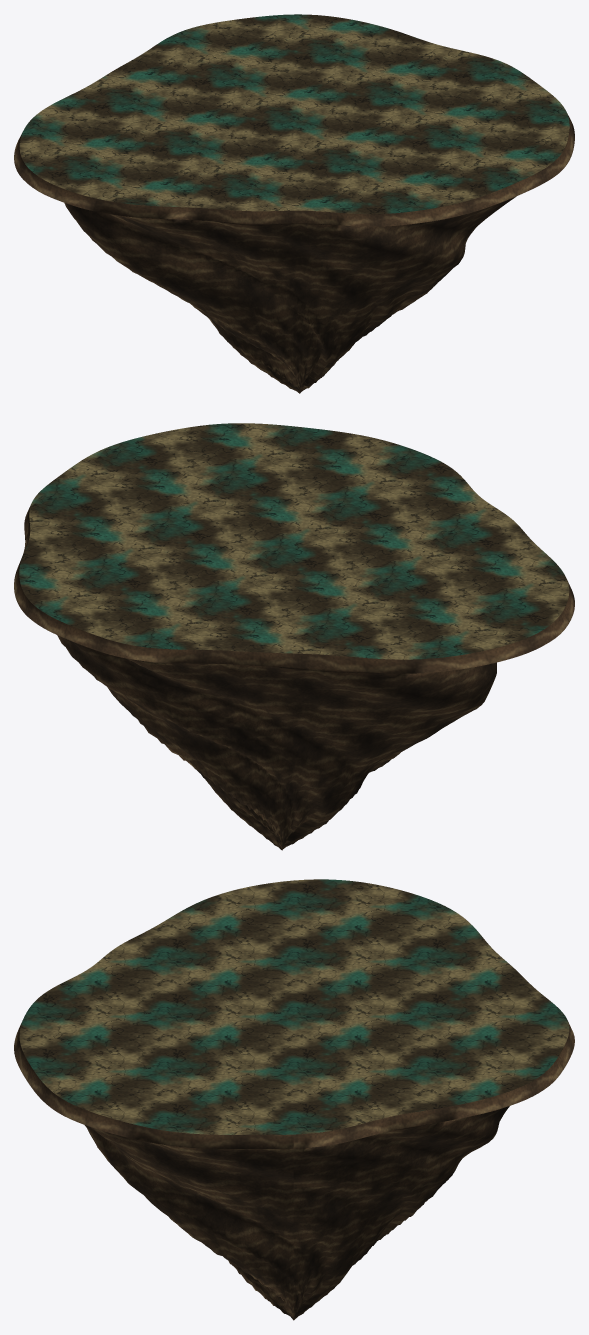
File: xen_suelo_isla.obj
3 views of the same model, one above another, from view 1: azimuth 30°, elevation 25°; view 2: azimuth 150°, elevation 25°; view 3: azimuth 270°, elevation 25° (orthographic). The views are drawn at different scales.
Parts seen in each view (by area): view 1: xen_suelo_isla; view 2: xen_suelo_isla; view 3: xen_suelo_isla.
Part boxes in pixels (x1,y1,x2,y2): xen_suelo_isla: (14, 14, 574, 393); xen_suelo_isla: (14, 423, 574, 850); xen_suelo_isla: (14, 879, 574, 1320).
Bounding box in the file's own units: 94.92 × 51.59 × 86.29.
